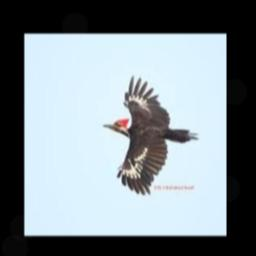Woodpecker: (104, 74, 199, 194)
